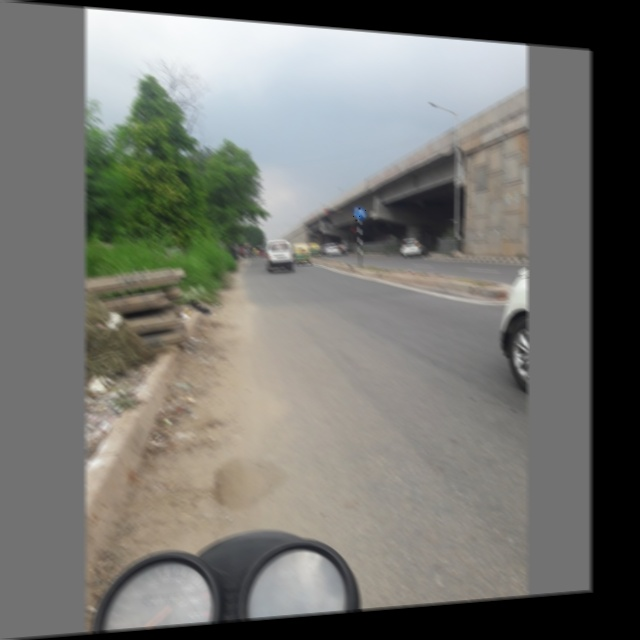Pass_Either_Side: (350, 205, 366, 222)
